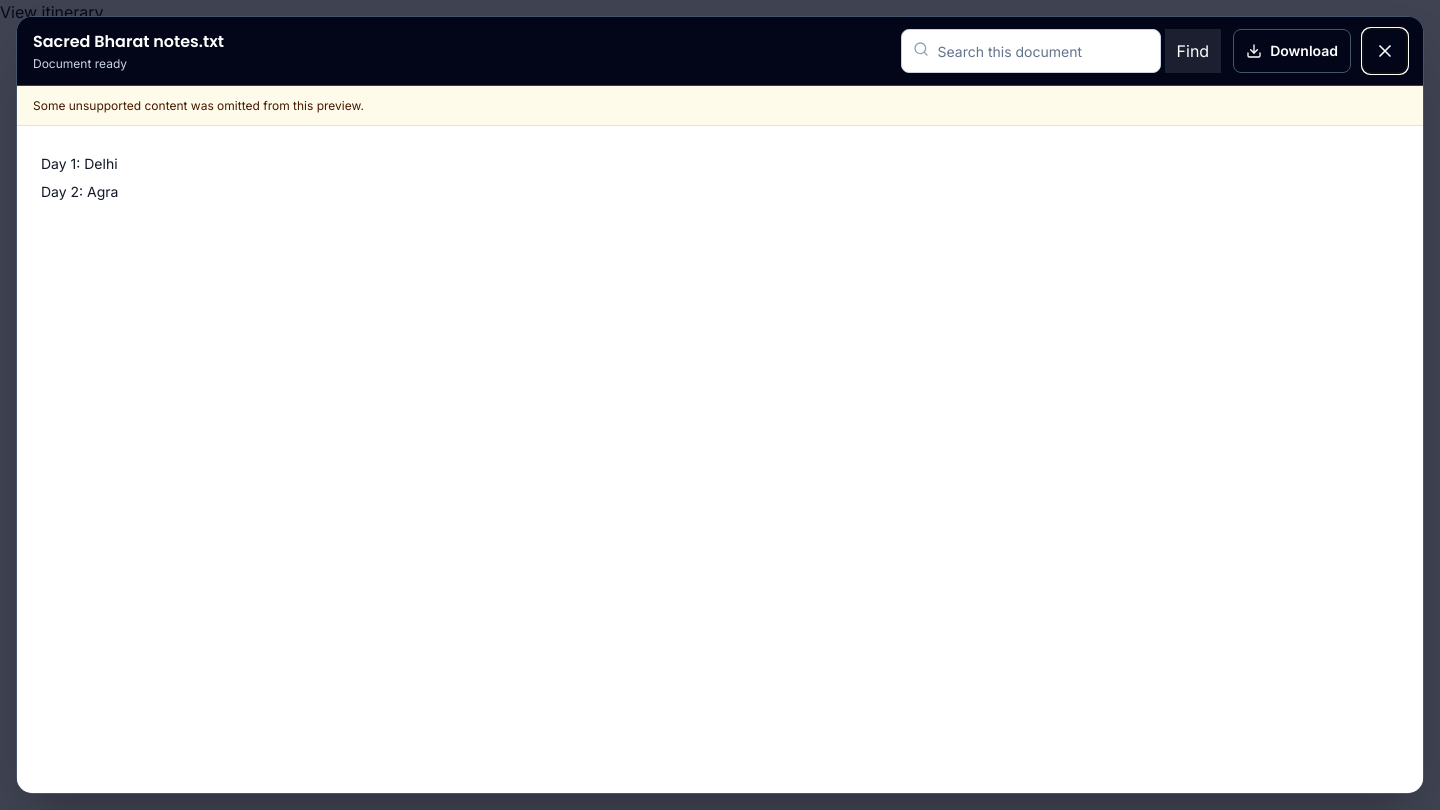
Test: DocumentPreviewHost › Opens private text in-app, exposes explicit download, and restores focus
Expected: the dialog shows "Sacred Bharat notes.txt", [33, 30, 224, 53]
Expected: the dialog shows "Day 1: Delhi", [41, 155, 118, 200]
Click the button named "Close document preview".
click(1385, 51)  # box [1363, 29, 1407, 73]
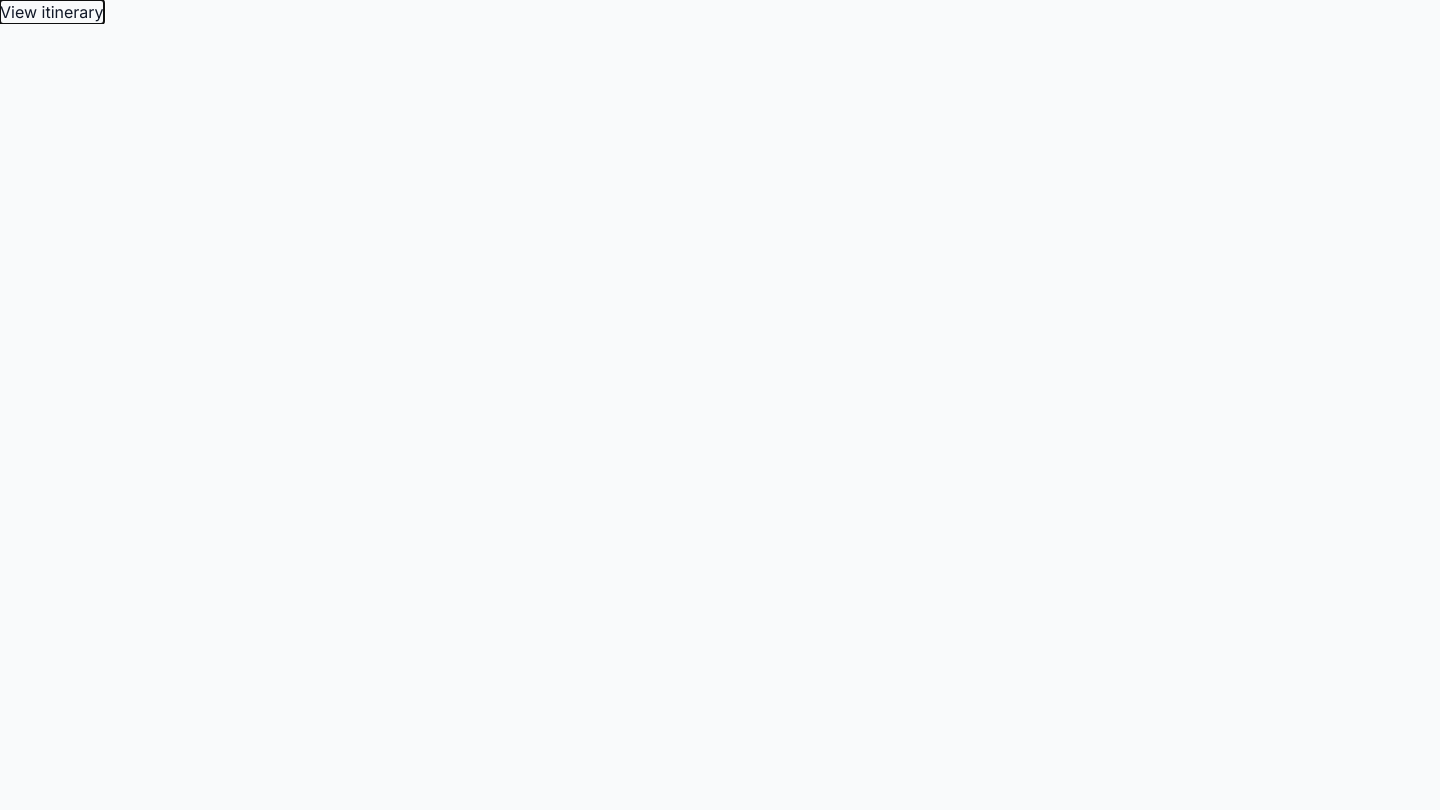
Expected: the dialog is gone
